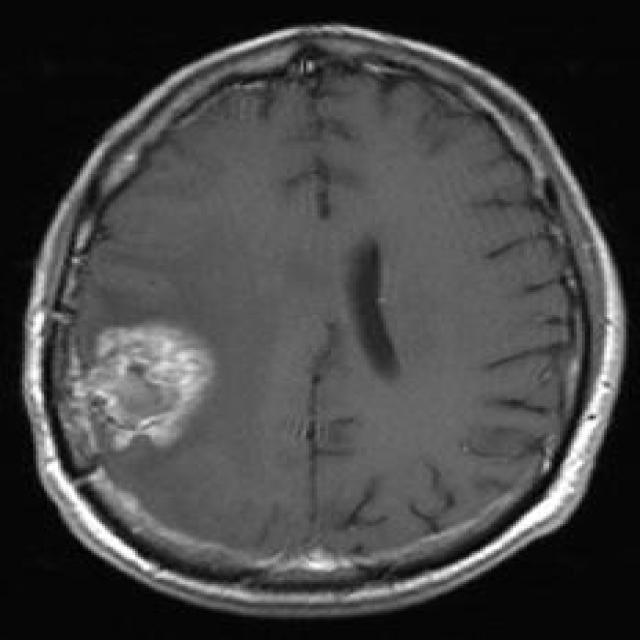Tumor-Cell: (44, 314, 220, 468)
